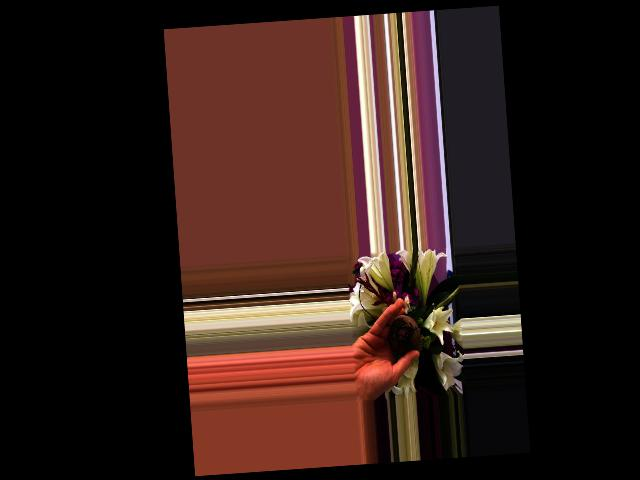beet: (386, 312, 421, 355)
